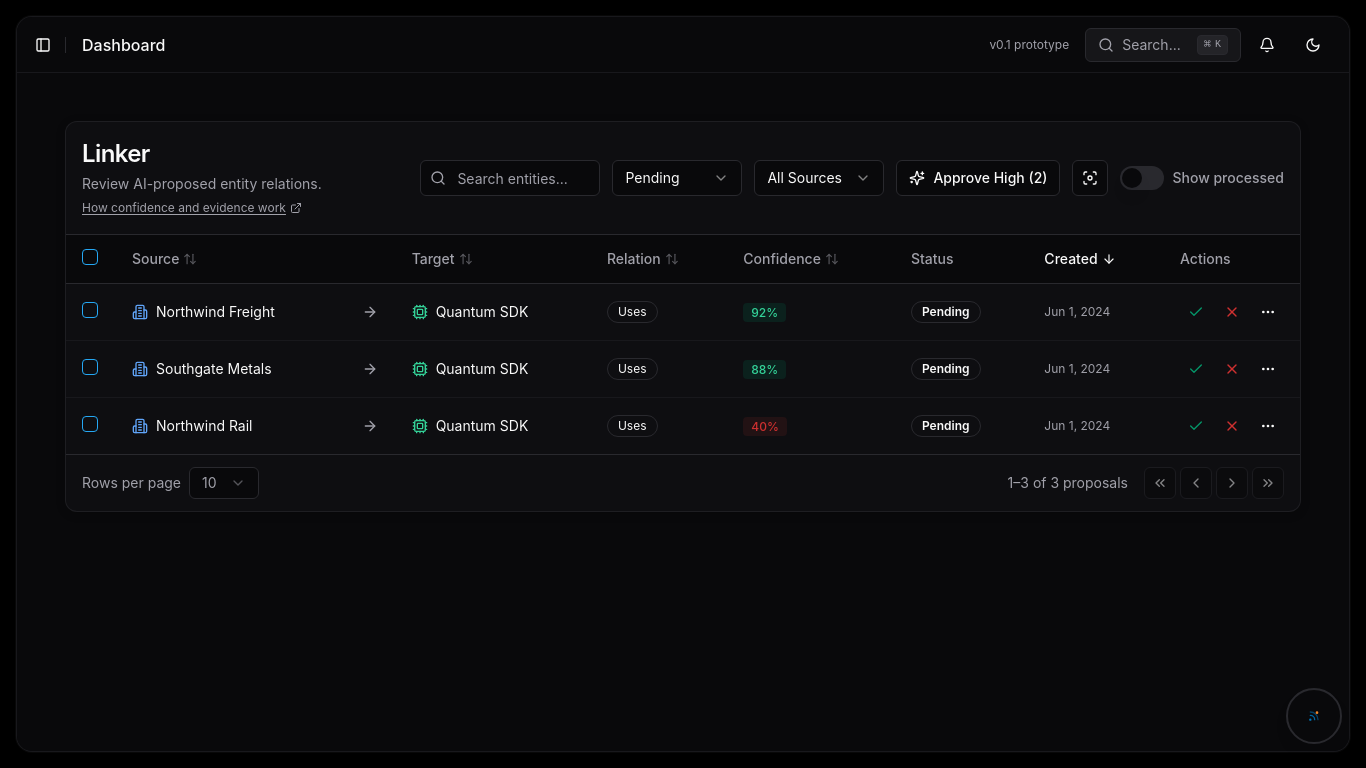
LinkerTriagePage — Approve High is bounded by the visible scope › drops the button entirely when the scope hides every high-confidence proposal
This screenshot has width=1366, height=768.
Expected: the button "Approve High (2)" is shown, [896,160,1060,196]
Step 1. Type "Southgate" into the field with placeholder "Search entities..." → (510, 178), box [420,160,600,196]
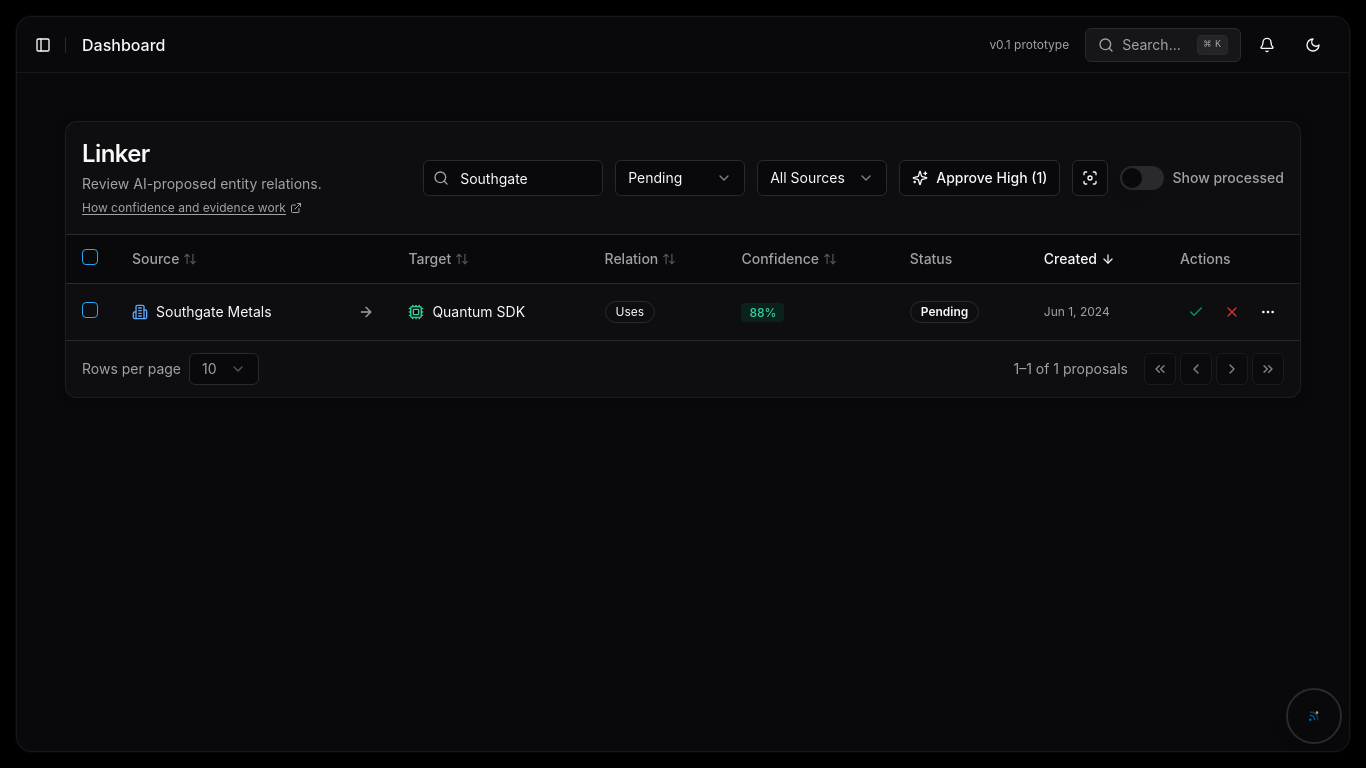
Now the button "Approve High (1)" is shown, box [899,160,1060,196]
Step 2. Replace the text in the field with placeholder "Search entities..." with "no-such-entity" → (513, 178), box [423,160,603,196]
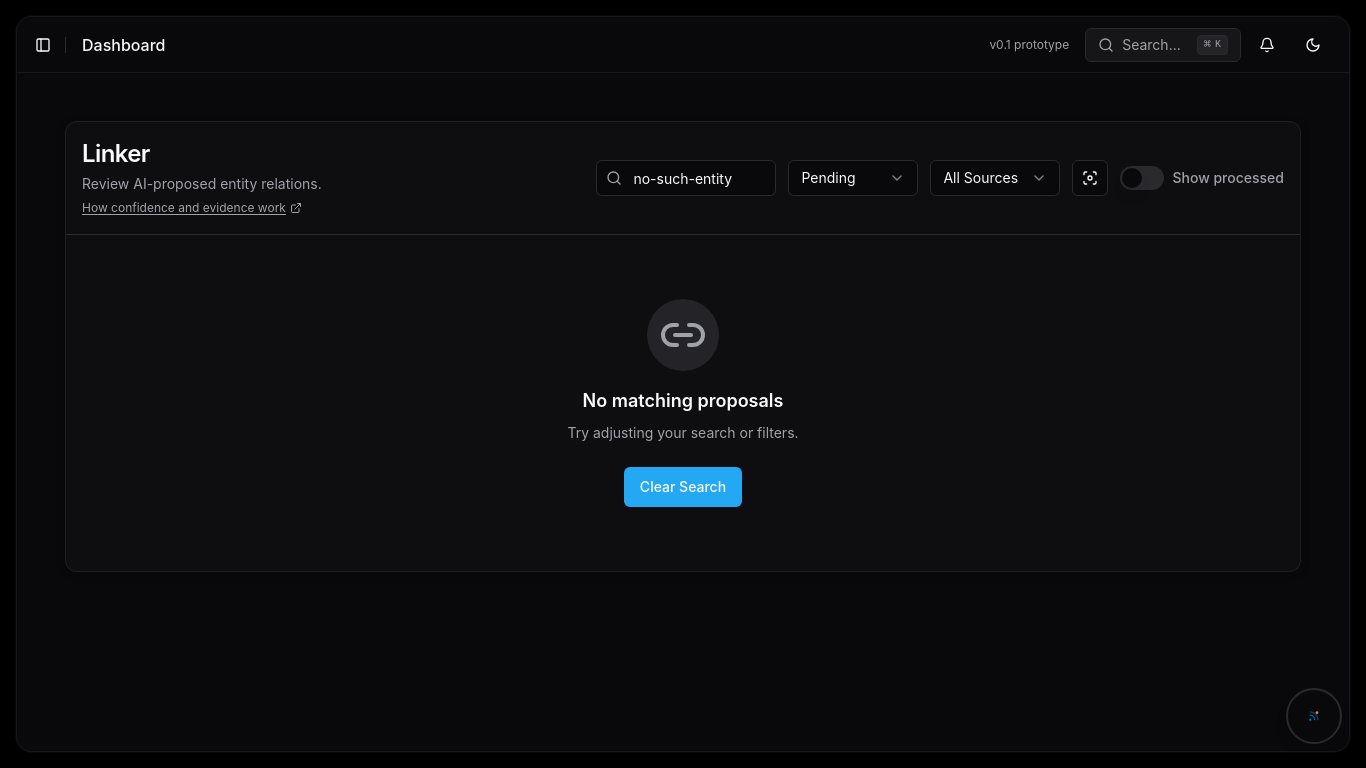
Now the button "Approve High" is gone
